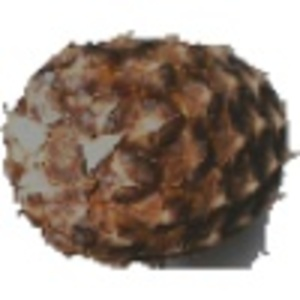abacaxi: (3, 29, 294, 266)
